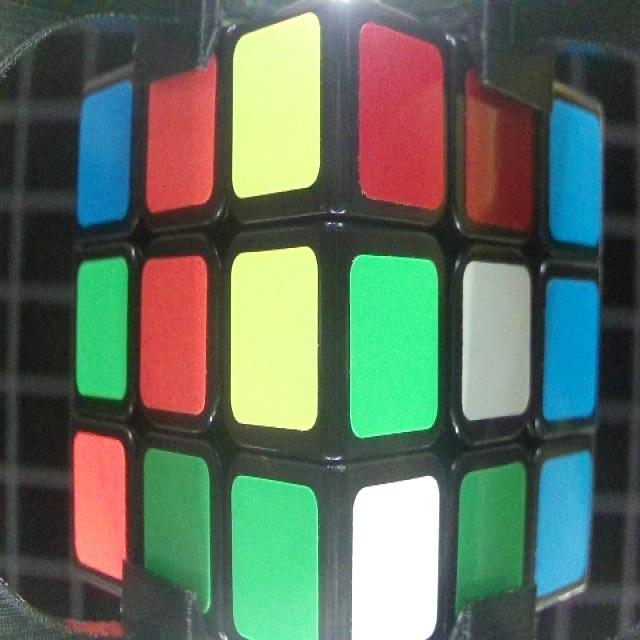b: (546, 90, 607, 247), (80, 85, 132, 226), (546, 285, 596, 425), (542, 464, 593, 583)
g: (349, 262, 439, 427), (232, 481, 316, 638), (143, 455, 210, 596), (459, 468, 525, 601), (72, 268, 129, 399)
o: (135, 268, 209, 403), (152, 47, 214, 203), (75, 437, 128, 577)
r: (358, 24, 445, 210), (466, 64, 536, 229)
w: (349, 489, 442, 640), (470, 268, 530, 416)
y: (229, 255, 322, 428), (232, 28, 321, 192)
